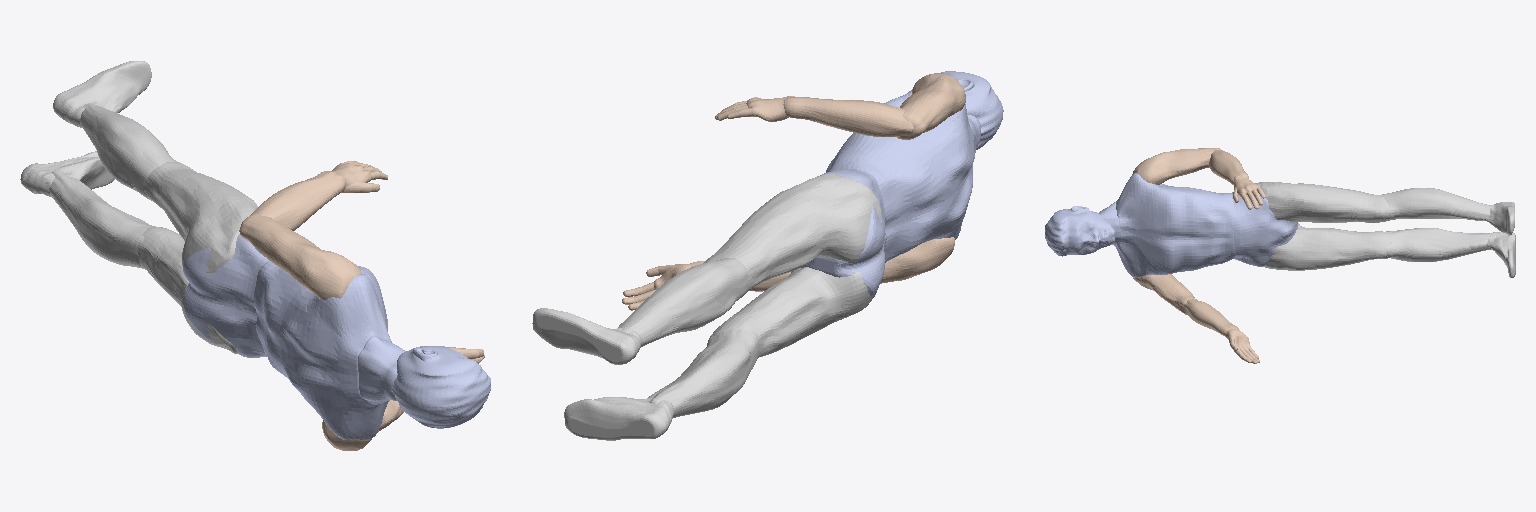
The robot description file, URDF, robot "CXK":
<?xml version="1.0" encoding="utf-8"?>
<!-- This URDF was automatically created by SolidWorks to URDF Exporter! Originally created by [author] ([email redacted]) 
     Commit Version: 1.6.0-4-g7f85cfe  Build Version: 1.6.7995.38578
     For more information, please see http://wiki.ros.org/sw_urdf_exporter -->
<robot
  name="CXK">
  <link
    name="base_link">
    <inertial>
      <origin
        xyz="0.0096906359307081 -0.119230223286247 0.00423816783955729"
        rpy="0 0 0" />
      <mass
        value="46.4693532291852" />
      <inertia
        ixx="0.763195276593007"
        ixy="-0.00673885543272561"
        ixz="0.00604785713409767"
        iyy="0.415985895055809"
        iyz="0.00346026010909751"
        izz="0.647103500278198" />
    </inertial>
    <visual>
      <origin
        xyz="0 0 0"
        rpy="0 0 0" />
      <geometry>
        <mesh
          filename="package://CXK/meshes/base_link.STL" />
      </geometry>
      <material
        name="">
        <color
          rgba="0.792156862745098 0.819607843137255 0.933333333333333 1" />
      </material>
    </visual>
    <collision>
      <origin
        xyz="0 0 0"
        rpy="0 0 0" />
      <geometry>
        <mesh
          filename="package://CXK/meshes/base_link.STL" />
      </geometry>
    </collision>
  </link>
  <link
    name="Right Arm">
    <inertial>
      <origin
        xyz="0.141730685922207 -0.0222861774359908 -0.105387373001325"
        rpy="0 0 0" />
      <mass
        value="3.87882938407095" />
      <inertia
        ixx="0.0150865071955374"
        ixy="0.00296045821277516"
        ixz="0.0130885879007677"
        iyy="0.0325546121707547"
        iyz="-0.002785714829328"
        izz="0.0224629129770535" />
    </inertial>
    <visual>
      <origin
        xyz="0 0 0"
        rpy="0 0 0" />
      <geometry>
        <mesh
          filename="package://CXK/meshes/Right Arm.STL" />
      </geometry>
      <material
        name="">
        <color
          rgba="0.890196078431372 0.796078431372549 0.725490196078431 1" />
      </material>
    </visual>
    <collision>
      <origin
        xyz="0 0 0"
        rpy="0 0 0" />
      <geometry>
        <mesh
          filename="package://CXK/meshes/Right Arm.STL" />
      </geometry>
    </collision>
  </link>
  <joint
    name="Right Arm"
    type="revolute">
    <origin
      xyz="0.0089253 -0.24473 -0.19848"
      rpy="1.5708 0 0" />
    <parent
      link="base_link" />
    <child
      link="Right Arm" />
    <axis
      xyz="0.13534 -0.99062 0.018772" />
    <limit
      lower="0"
      upper="0"
      effort="0"
      velocity="0" />
  </joint>
  <link
    name="Left Arm">
    <inertial>
      <origin
        xyz="0.00841896960121909 0.0246325818836685 -0.143713372582989"
        rpy="0 0 0" />
      <mass
        value="3.87883754839522" />
      <inertia
        ixx="0.0240120449974015"
        ixy="0.000457521831265598"
        ixz="-0.00240602045351263"
        iyy="0.0326188180033286"
        iyz="0.00385220123260758"
        izz="0.0134721370149799" />
    </inertial>
    <visual>
      <origin
        xyz="0 0 0"
        rpy="0 0 0" />
      <geometry>
        <mesh
          filename="package://CXK/meshes/Left Arm.STL" />
      </geometry>
      <material
        name="">
        <color
          rgba="0.890196078431372 0.796078431372549 0.725490196078431 1" />
      </material>
    </visual>
    <collision>
      <origin
        xyz="0 0 0"
        rpy="0 0 0" />
      <geometry>
        <mesh
          filename="package://CXK/meshes/Left Arm.STL" />
      </geometry>
    </collision>
  </link>
  <joint
    name="Left Arm"
    type="revolute">
    <origin
      xyz="-0.046605 -0.23703 0.20799"
      rpy="1.5708 0 0" />
    <parent
      link="base_link" />
    <child
      link="Left Arm" />
    <axis
      xyz="0.13534 -0.99062 0.018772" />
    <limit
      lower="0"
      upper="0"
      effort="0"
      velocity="0" />
  </joint>
  <link
    name="Right Wrist">
    <inertial>
      <origin
        xyz="0.0438046010275084 -0.0237298059579416 -0.0281790568772649"
        rpy="0 0 0" />
      <mass
        value="0.370949422279241" />
      <inertia
        ixx="0.000502679257816968"
        ixy="0.000214867345237206"
        ixz="0.000197994973854303"
        iyy="0.000816961920382485"
        iyz="-0.00019985115907963"
        izz="0.000734262428988496" />
    </inertial>
    <visual>
      <origin
        xyz="0 0 0"
        rpy="0 0 0" />
      <geometry>
        <mesh
          filename="package://CXK/meshes/Right Wrist.STL" />
      </geometry>
      <material
        name="">
        <color
          rgba="0.890196078431372 0.796078431372549 0.725490196078431 1" />
      </material>
    </visual>
    <collision>
      <origin
        xyz="0 0 0"
        rpy="0 0 0" />
      <geometry>
        <mesh
          filename="package://CXK/meshes/Right Wrist.STL" />
      </geometry>
    </collision>
  </link>
  <joint
    name="Right Wrist"
    type="revolute">
    <origin
      xyz="0.43653 0.057937 -0.24142"
      rpy="1.5708 0 0" />
    <parent
      link="base_link" />
    <child
      link="Right Wrist" />
    <axis
      xyz="0.68852 0.22009 0.69101" />
    <limit
      lower="0"
      upper="0"
      effort="0"
      velocity="0" />
  </joint>
  <link
    name="Left Wrist">
    <inertial>
      <origin
        xyz="0.0529812429972789 -0.00950698668230093 -0.0194572674144713"
        rpy="0 0 0" />
      <mass
        value="0.370956459386234" />
      <inertia
        ixx="0.000331857399233709"
        ixy="9.83533368802752E-05"
        ixz="0.000193728895541193"
        iyy="0.000967283804457599"
        iyz="-3.5172494746672E-06"
        izz="0.000754776270149611" />
    </inertial>
    <visual>
      <origin
        xyz="0 0 0"
        rpy="0 0 0" />
      <geometry>
        <mesh
          filename="package://CXK/meshes/Left Wrist.STL" />
      </geometry>
      <material
        name="">
        <color
          rgba="0.890196078431372 0.796078431372549 0.725490196078431 1" />
      </material>
    </visual>
    <collision>
      <origin
        xyz="0 0 0"
        rpy="0 0 0" />
      <geometry>
        <mesh
          filename="package://CXK/meshes/Left Wrist.STL" />
      </geometry>
    </collision>
  </link>
  <joint
    name="Left Wrist"
    type="revolute">
    <origin
      xyz="0.16127 0.093377 0.26719"
      rpy="1.5708 0 0" />
    <parent
      link="base_link" />
    <child
      link="Left Wrist" />
    <axis
      xyz="-0.41354 0.11802 -0.9028" />
    <limit
      lower="0"
      upper="0"
      effort="0"
      velocity="0" />
  </joint>
  <link
    name="Right Leg">
    <inertial>
      <origin
        xyz="0.0113262065511052 0.000508450830415771 -0.248789441916006"
        rpy="0 0 0" />
      <mass
        value="14.688833963221" />
      <inertia
        ixx="0.263719446054451"
        ixy="0.00453056227776077"
        ixz="0.0179851508249944"
        iyy="0.276687347195287"
        iyz="-0.00197972851877833"
        izz="0.0462280543799564" />
    </inertial>
    <visual>
      <origin
        xyz="0 0 0"
        rpy="0 0 0" />
      <geometry>
        <mesh
          filename="package://CXK/meshes/Right Leg.STL" />
      </geometry>
      <material
        name="">
        <color
          rgba="0.850980392156863 0.850980392156863 0.850980392156863 1" />
      </material>
    </visual>
    <collision>
      <origin
        xyz="0 0 0"
        rpy="0 0 0" />
      <geometry>
        <mesh
          filename="package://CXK/meshes/Right Leg.STL" />
      </geometry>
    </collision>
  </link>
  <joint
    name="Right Leg"
    type="revolute">
    <origin
      xyz="-0.031818 0.28547 -0.09061"
      rpy="1.5708 0 0" />
    <parent
      link="base_link" />
    <child
      link="Right Leg" />
    <axis
      xyz="-0.024521 -0.99969 -0.0033999" />
    <limit
      lower="0"
      upper="0"
      effort="0"
      velocity="0" />
  </joint>
  <link
    name="Left Leg">
    <inertial>
      <origin
        xyz="0.0328065643145384 -0.000517985790271805 -0.24818918626528"
        rpy="0 0 0" />
      <mass
        value="14.6891452512572" />
      <inertia
        ixx="0.260509504537438"
        ixy="-0.00465115806191828"
        ixz="0.0356351196060873"
        iyy="0.276698432317449"
        iyz="0.00173169983368748"
        izz="0.049449515430337" />
    </inertial>
    <visual>
      <origin
        xyz="0 0 0"
        rpy="0 0 0" />
      <geometry>
        <mesh
          filename="package://CXK/meshes/Left Leg.STL" />
      </geometry>
      <material
        name="">
        <color
          rgba="0.850980392156863 0.850980392156863 0.850980392156863 1" />
      </material>
    </visual>
    <collision>
      <origin
        xyz="0 0 0"
        rpy="0 0 0" />
      <geometry>
        <mesh
          filename="package://CXK/meshes/Left Leg.STL" />
      </geometry>
    </collision>
  </link>
  <joint
    name="Left Leg"
    type="revolute">
    <origin
      xyz="-0.0273729614468192 0.284851190706178 0.0906115873139835"
      rpy="1.5707963267949 0 0" />
    <parent
      link="base_link" />
    <child
      link="Left Leg" />
    <axis
      xyz="-0.0245205207072278 -0.999693545268882 -0.00339994293788359" />
    <limit
      lower="0"
      upper="0"
      effort="0"
      velocity="0" />
  </joint>
</robot>

--- Render facts (derived) ---
3 views of the same robot in one strip: view 1: azimuth 30°, elevation 25°; view 2: azimuth 150°, elevation 25°; view 3: azimuth 270°, elevation 25° (orthographic).
Robot: CXK — 7 links, 6 joints (6 revolute); root link base_link; default pose: every joint at zero.
Visible links, largest first — view 1: base_link, Left Leg, Right Leg, Left Arm, Left Wrist, Right Arm; view 2: Left Leg, base_link, Right Leg, Left Arm, Right Arm, Left Wrist, Right Wrist; view 3: base_link, Right Leg, Left Leg, Left Arm, Right Arm, Left Wrist, Right Wrist.
Boxes of the visible links, x1=… form: base_link: x1=183, y1=234, x2=490, y2=439; Left Leg: x1=53, y1=61, x2=257, y2=272; Right Leg: x1=20, y1=151, x2=236, y2=353; Left Arm: x1=239, y1=171, x2=361, y2=299; Left Wrist: x1=332, y1=161, x2=387, y2=192; Right Arm: x1=322, y1=400, x2=403, y2=450; Left Leg: x1=532, y1=174, x2=881, y2=364; base_link: x1=801, y1=71, x2=1003, y2=298; Right Leg: x1=564, y1=267, x2=878, y2=440; Left Arm: x1=783, y1=73, x2=965, y2=139; Right Arm: x1=692, y1=237, x2=954, y2=291; Left Wrist: x1=715, y1=96, x2=794, y2=121; Right Wrist: x1=622, y1=263, x2=695, y2=310; base_link: x1=1045, y1=173, x2=1297, y2=277; Right Leg: x1=1263, y1=223, x2=1515, y2=277; Left Leg: x1=1259, y1=182, x2=1514, y2=235; Left Arm: x1=1132, y1=148, x2=1248, y2=184; Right Arm: x1=1133, y1=274, x2=1238, y2=335; Left Wrist: x1=1233, y1=175, x2=1265, y2=209; Right Wrist: x1=1225, y1=327, x2=1259, y2=363.
Bounding box of the posed robot: 0.7386 × 1.79 × 0.6125 m (x, y, z).
Meshes: 7 distinct files referenced, 7 mesh visuals loaded (7 binary STL).
